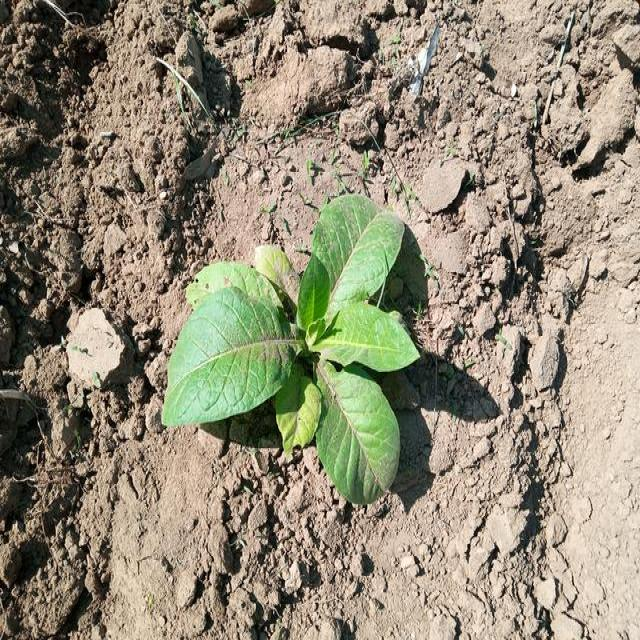crop: (165, 196, 418, 509)
